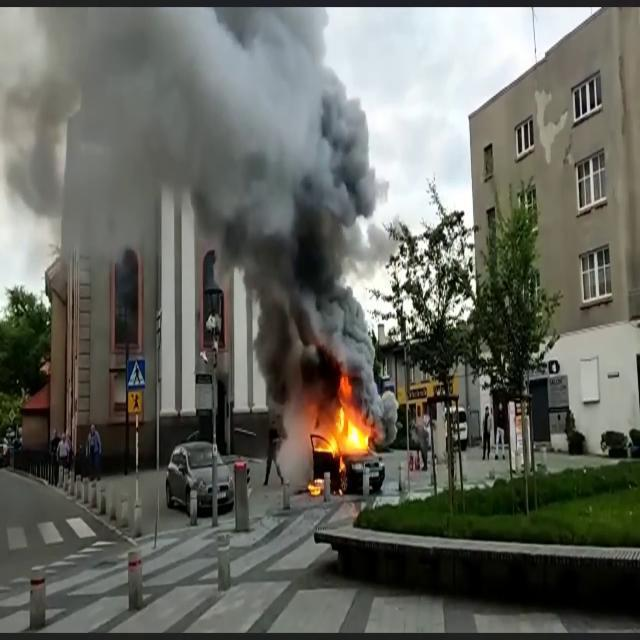Fire: (309, 380, 376, 473)
Smoke: (1, 1, 387, 376), (612, 0, 640, 371)
